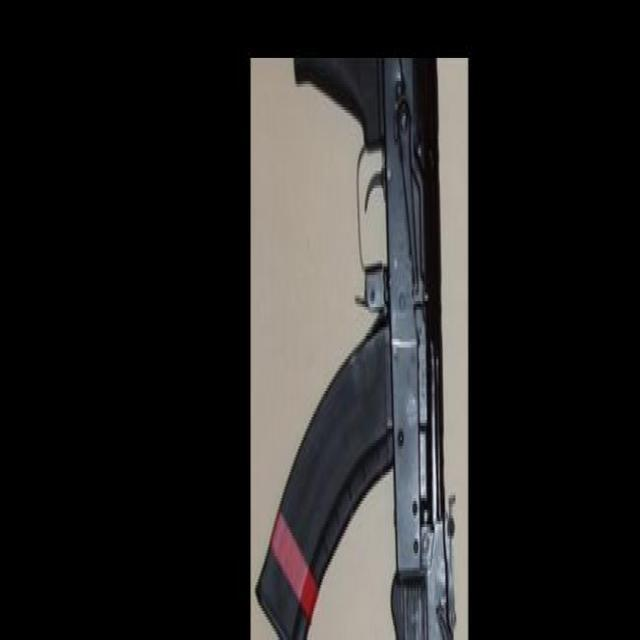weapon: (254, 55, 457, 640)
